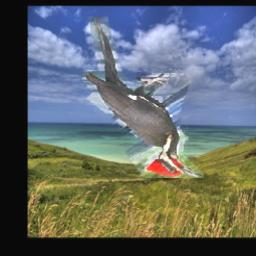Woodpecker: (83, 18, 205, 179)
